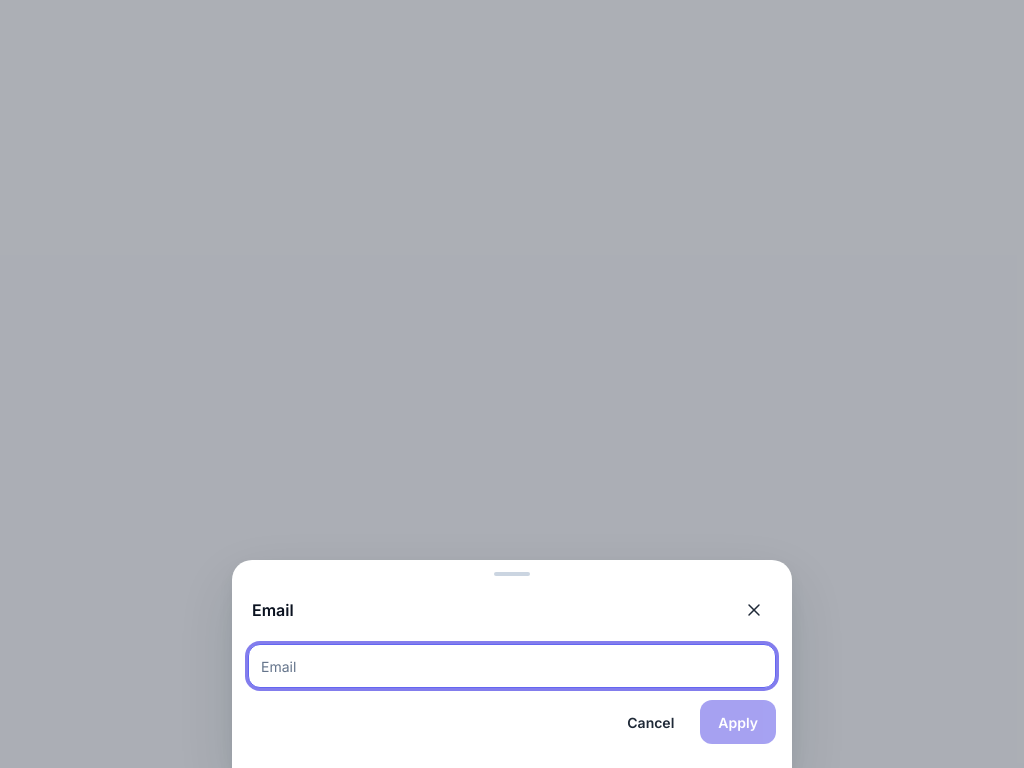
Test: FieldInputDrawer › email kind rejects bad email with an alert
Step 1. Type "not-an-email" into the field labelled "Email" → [512, 666], box left=248, top=644, right=776, bottom=688
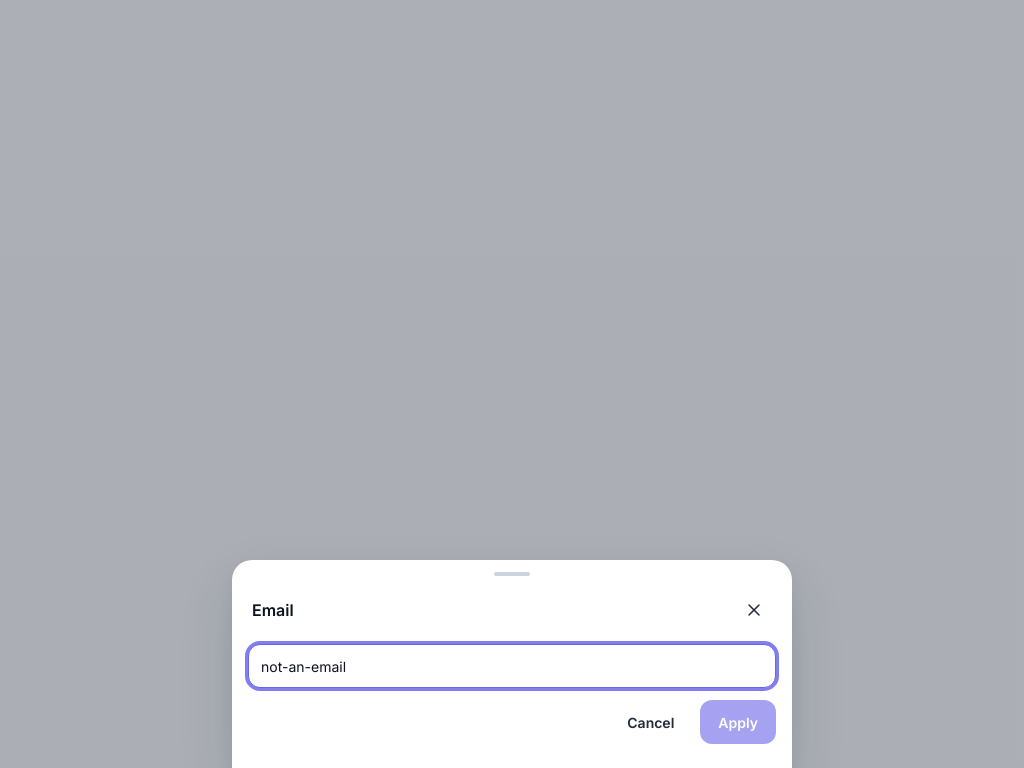
Step 2. Click the button "Apply" → [738, 722], box left=700, top=700, right=776, bottom=744
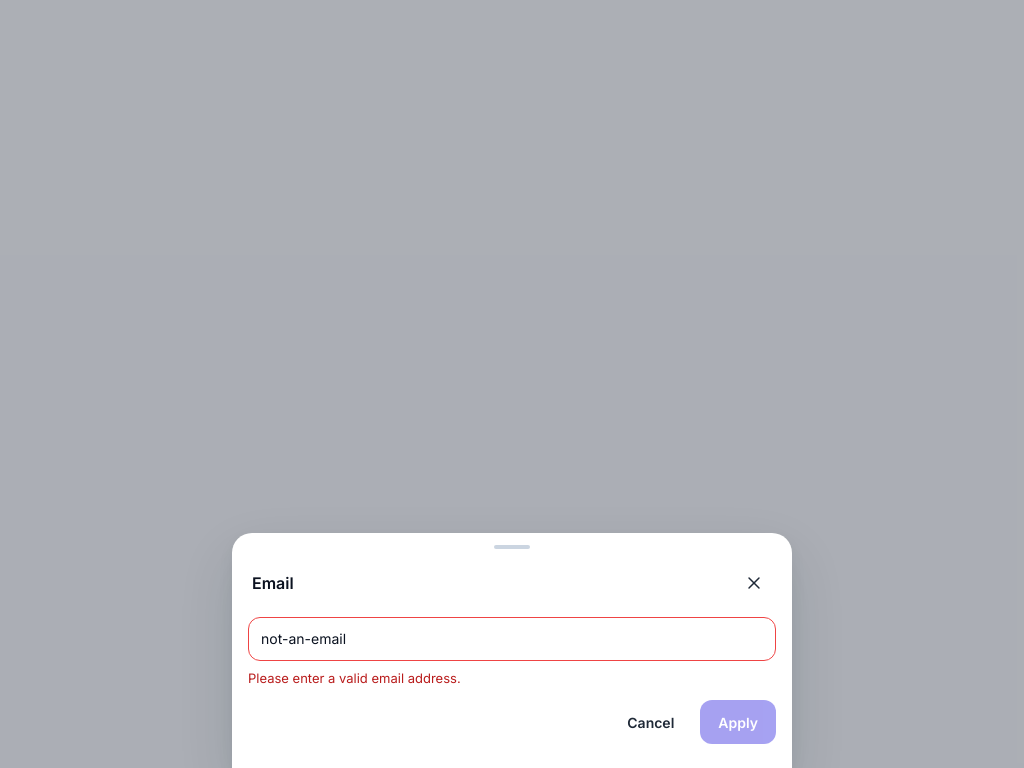
Now the message shows "valid email", box left=248, top=670, right=461, bottom=686
